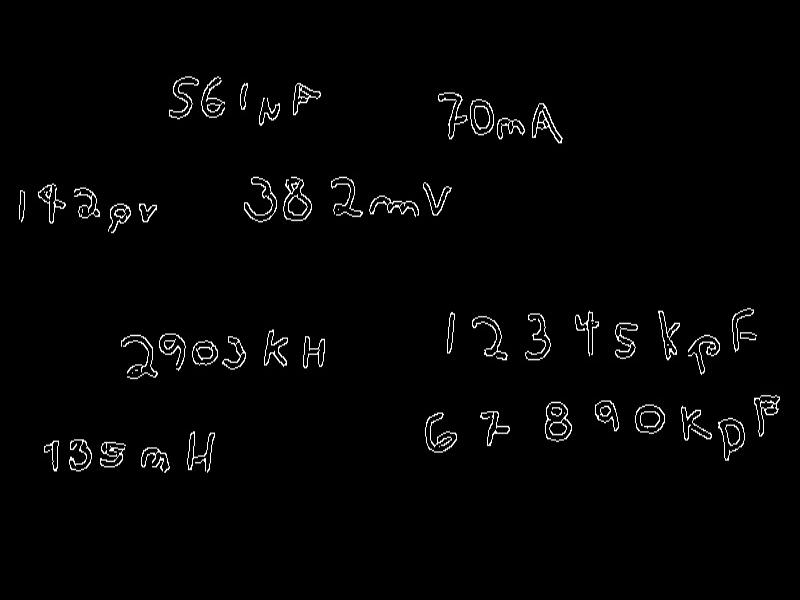0: (632, 401, 666, 435), (468, 97, 496, 138), (189, 335, 220, 368)
1: (40, 437, 61, 476), (443, 309, 459, 356), (16, 187, 29, 224), (237, 80, 249, 115)
2: (118, 331, 159, 386), (469, 314, 508, 364), (328, 173, 366, 219), (71, 184, 102, 221)
3: (241, 172, 280, 228), (523, 308, 553, 365), (220, 333, 251, 374), (66, 435, 96, 476), (160, 509, 161, 509)
4: (572, 308, 602, 358), (35, 181, 68, 225)
5: (166, 73, 200, 121), (613, 319, 640, 361), (98, 438, 127, 469)
6: (422, 410, 458, 455), (199, 74, 227, 121)
7: (434, 89, 470, 140), (478, 407, 513, 449)
8: (280, 172, 314, 224), (541, 398, 575, 445)
9: (157, 328, 188, 372), (593, 395, 621, 437)
A: (529, 101, 564, 146)
F: (752, 392, 781, 442), (730, 305, 759, 354), (289, 78, 323, 118)
H: (186, 428, 215, 475), (299, 334, 327, 372)
V: (421, 179, 454, 219), (137, 200, 161, 225)
k: (679, 402, 715, 444), (655, 306, 681, 361), (263, 327, 290, 368)
m: (366, 191, 421, 219)
n: (139, 443, 171, 476), (493, 115, 526, 144)
p: (686, 330, 721, 379), (715, 415, 749, 465), (107, 199, 134, 235)
u: (257, 93, 282, 128)
